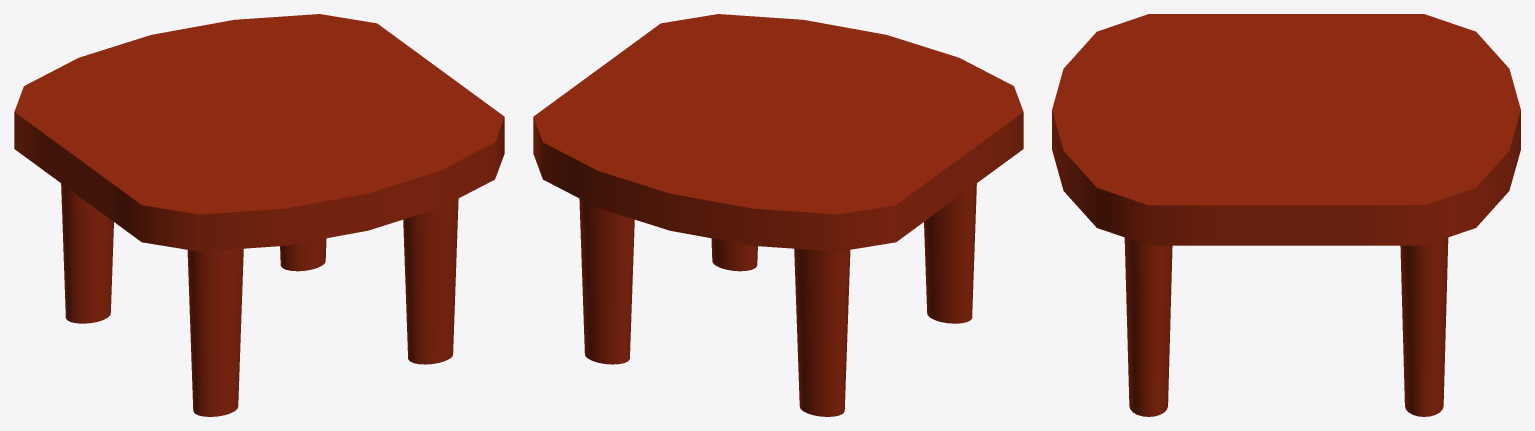
The model's file is Table_Little_Mesh_001 (1).fbx.
3 views of the same model, side by side, from view 1: azimuth 30°, elevation 25°; view 2: azimuth 150°, elevation 25°; view 3: azimuth 270°, elevation 25° (orthographic). The views are drawn at different scales.
Visible parts, largest first — view 1: Table_Little_Mesh_001; view 2: Table_Little_Mesh_001; view 3: Table_Little_Mesh_001.
Boxes of the visible parts, left/top/right/bottom form: Table_Little_Mesh_001: left=14, top=14, right=504, bottom=416; Table_Little_Mesh_001: left=533, top=14, right=1023, bottom=416; Table_Little_Mesh_001: left=1052, top=14, right=1520, bottom=416.
Bounding box in the file's own units: 130 × 75.62 × 134.
